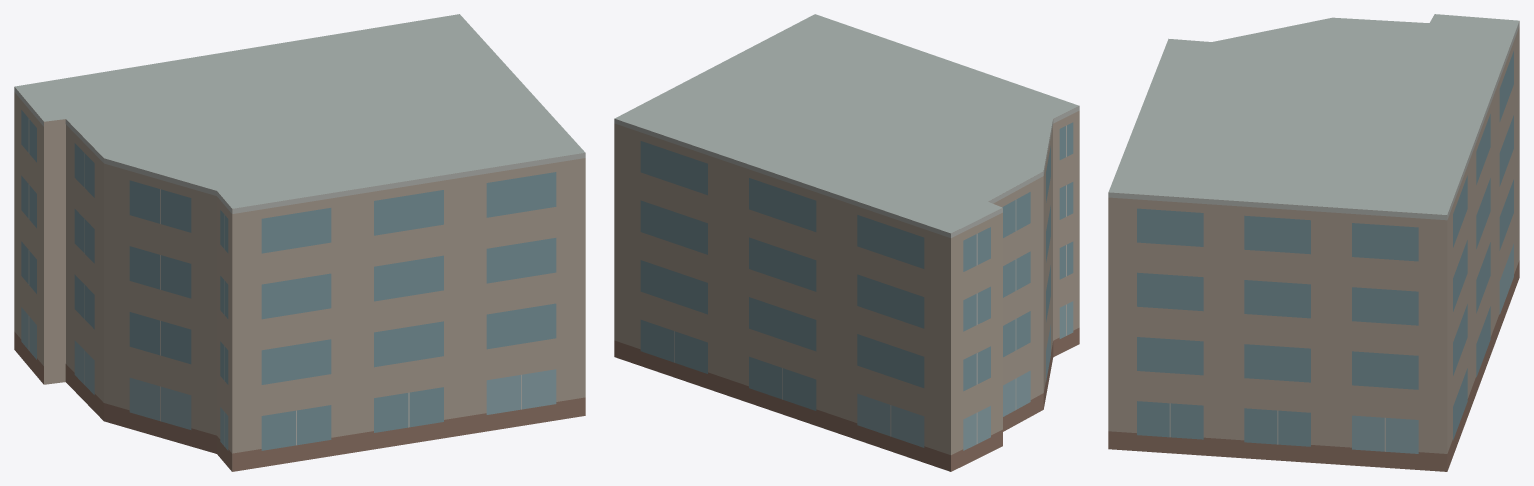
The model's file is survey-upis-32642462.glb.
3 views of the same model, side by side, from view 1: azimuth 30°, elevation 25°; view 2: azimuth 150°, elevation 25°; view 3: azimuth 270°, elevation 25° (orthographic). The views are drawn at different scales.
Parts seen in each view (by area): view 1: survey-upis-32642462.tmp; view 2: survey-upis-32642462.tmp; view 3: survey-upis-32642462.tmp.
Boxes of the visible parts, x1,y1,x2,y2 form: survey-upis-32642462.tmp: (14,14,585,471); survey-upis-32642462.tmp: (614,14,1079,471); survey-upis-32642462.tmp: (1108,14,1519,471).
Size of the model in its own units: 20.51 by 12.2 by 17.72.
